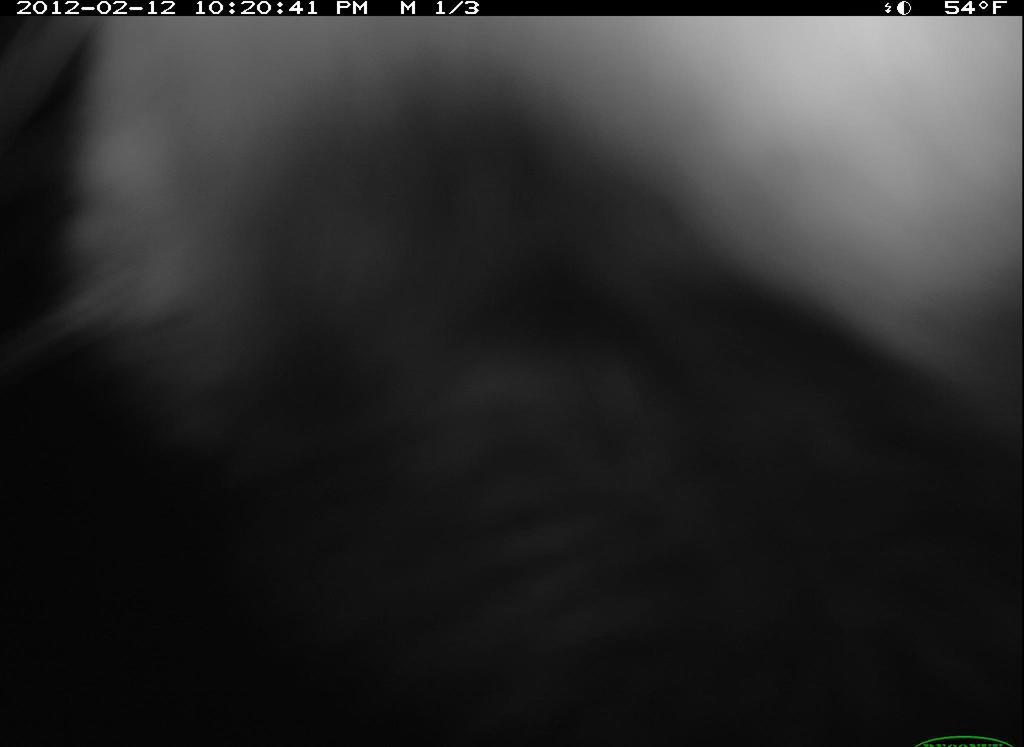raccoon: (56, 18, 1023, 743)
